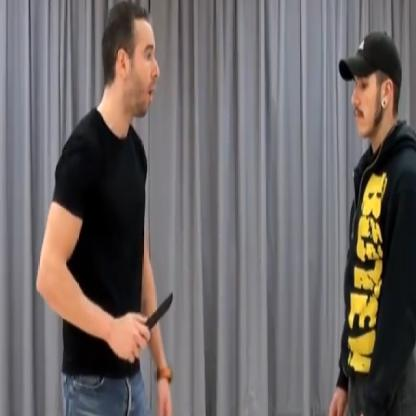knife: (124, 282, 176, 362)
